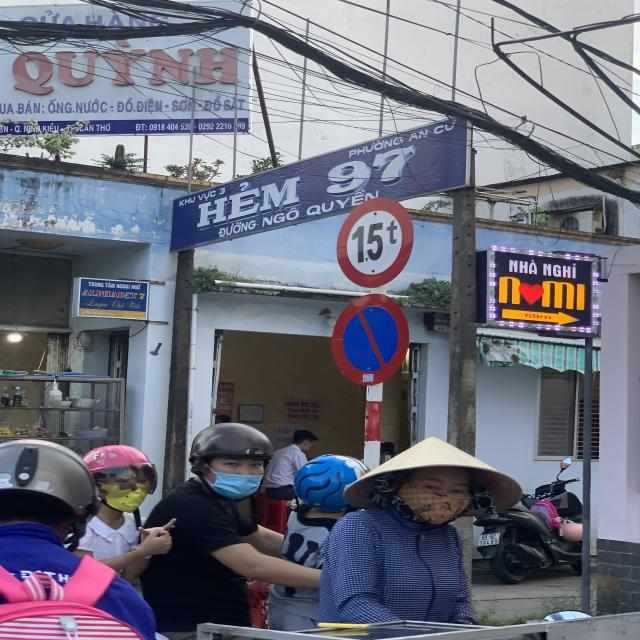Cam_Dau_Xe: (332, 293, 410, 386)
